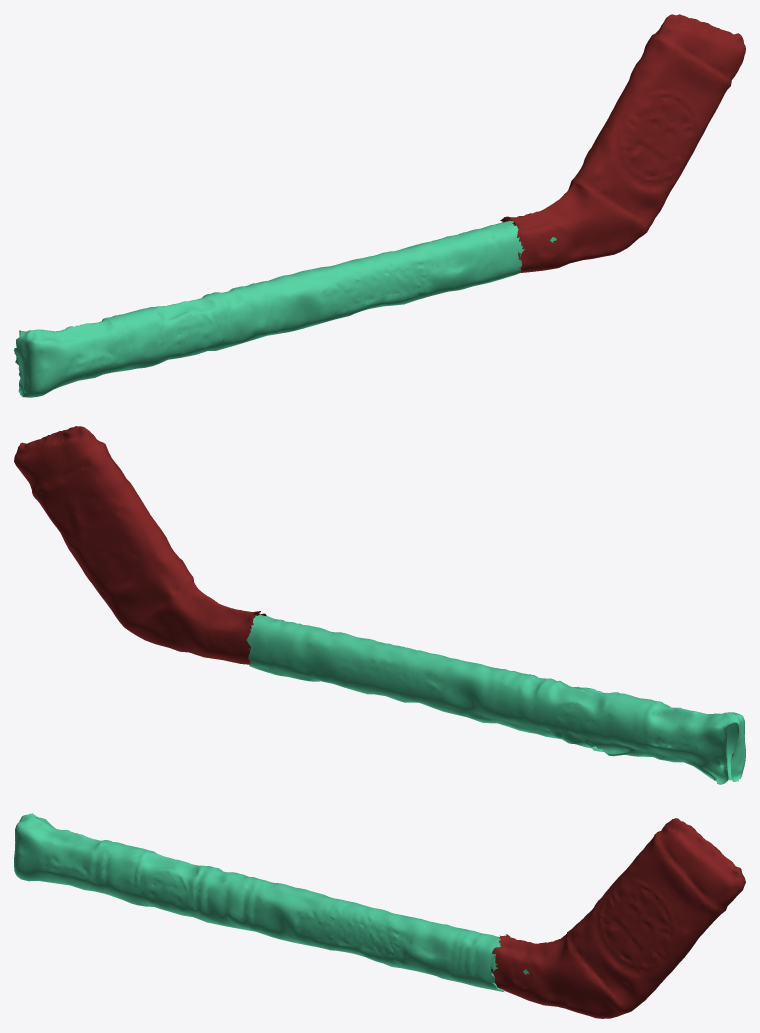
Rendered from object_deformed_5.obj.
3 renders of one model, top to bottom at view 1: azimuth 30°, elevation 25°; view 2: azimuth 150°, elevation 25°; view 3: azimuth 330°, elevation 25°, orthographic. The views are drawn at different scales.
Bounding box in the file's own units: 0.6091 × 0.1703 × 0.0487.
